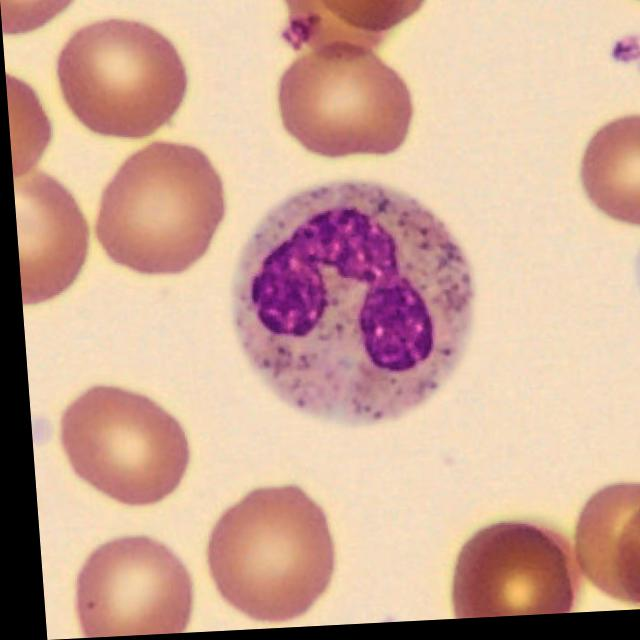Neutrofilo segmentado: (224, 182, 470, 431)
